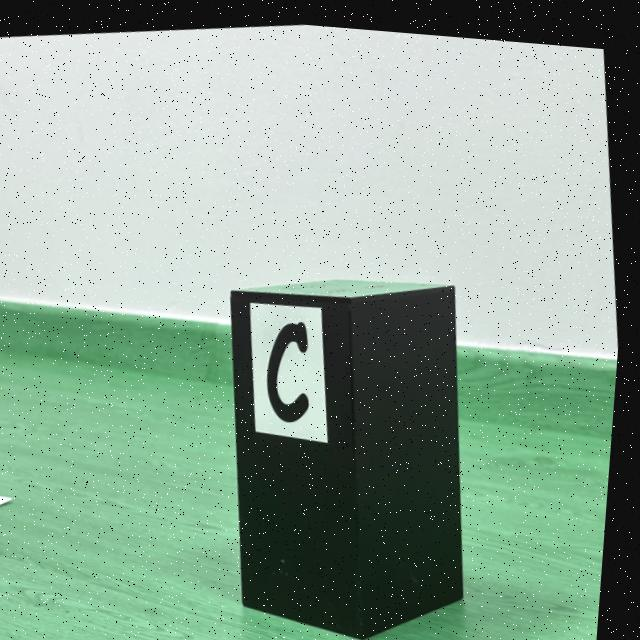C: (272, 317, 314, 416)
